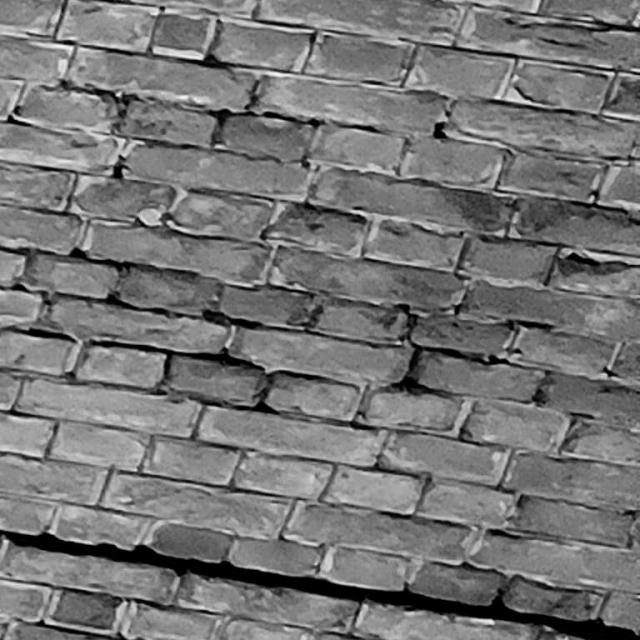crack: (1, 529, 640, 640)
